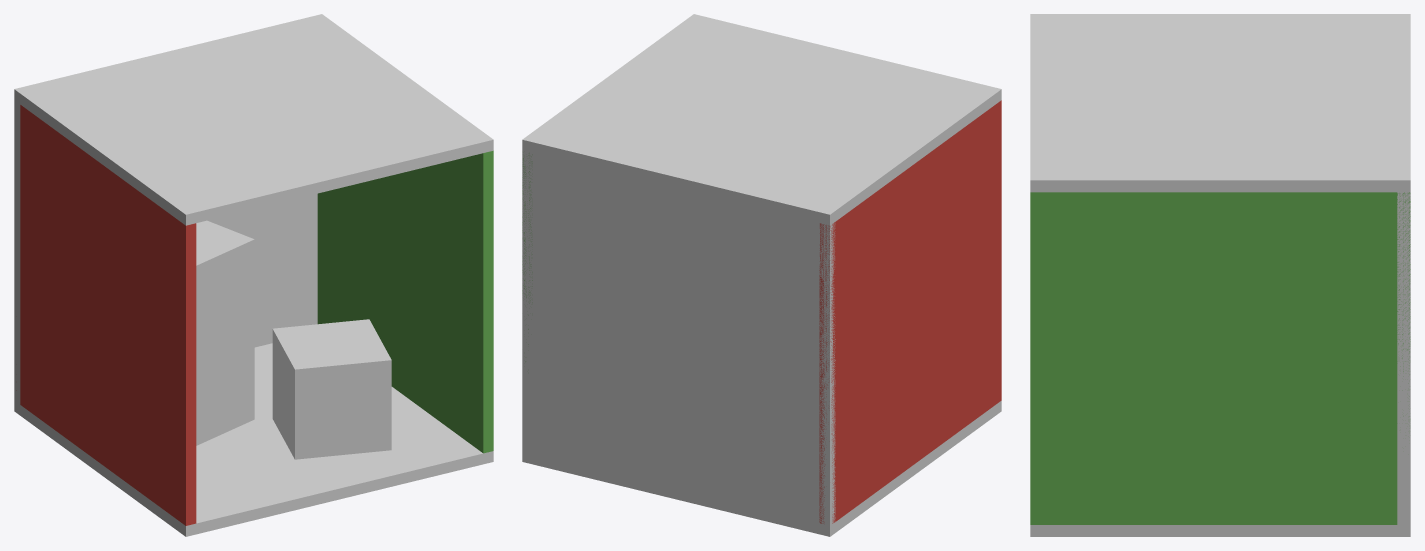
3 views of the same model, side by side, from view 1: azimuth 30°, elevation 25°; view 2: azimuth 150°, elevation 25°; view 3: azimuth 270°, elevation 25° (orthographic). The views are drawn at different scales.
Parts seen in each view (by area): view 1: Ceiling, Wall_Red, Wall_Green, Floor, Box_Short, Back, Box_Tall; view 2: Back, Ceiling, Wall_Red, Floor; view 3: Wall_Green, Ceiling, Back, Floor.
Boxes of the visible parts, bbox=[...] form: Ceiling: bbox=[14, 18, 493, 225]; Wall_Red: bbox=[16, 105, 196, 525]; Wall_Green: bbox=[317, 150, 493, 453]; Floor: bbox=[14, 343, 493, 536]; Box_Short: bbox=[272, 319, 391, 459]; Back: bbox=[14, 14, 327, 408]; Box_Tall: bbox=[196, 220, 254, 445]; Back: bbox=[522, 135, 835, 536]; Ceiling: bbox=[522, 14, 1001, 225]; Wall_Red: bbox=[819, 100, 1001, 523]; Floor: bbox=[587, 401, 1001, 536]; Wall_Green: bbox=[1030, 192, 1410, 524]; Ceiling: bbox=[1030, 14, 1410, 192]; Back: bbox=[1397, 14, 1410, 536]; Floor: bbox=[1030, 525, 1410, 536].
Bounding box in the file's own units: 5.9 × 5.9 × 5.7.
